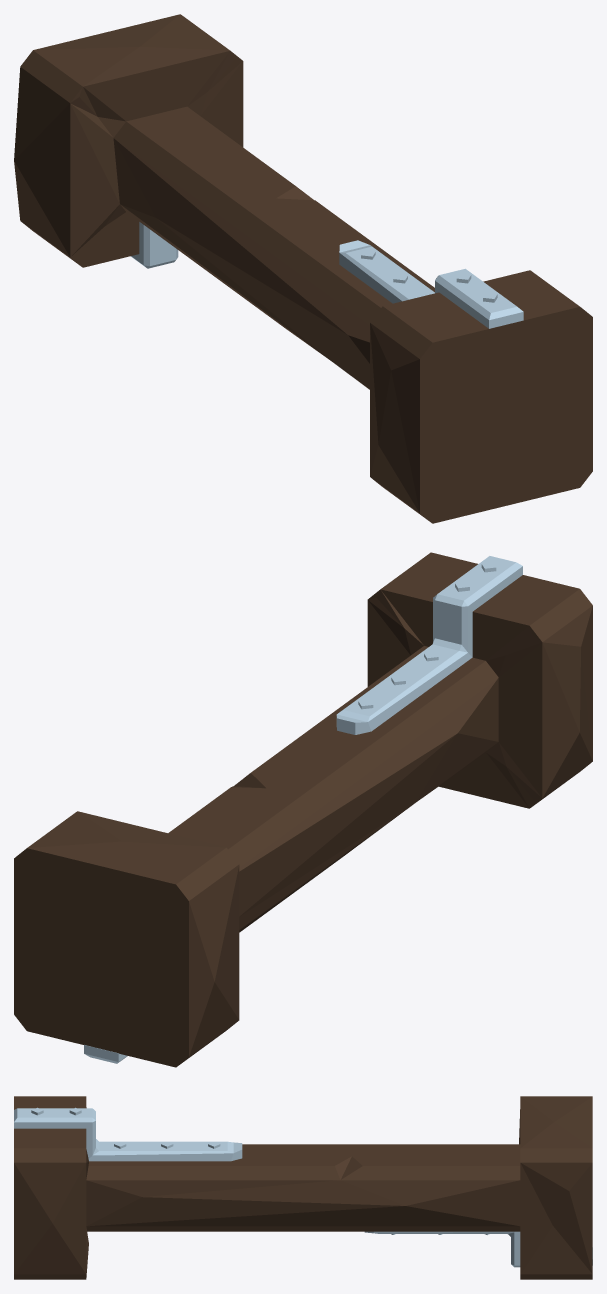
The model's file is Beam_Medium.fbx.
3 renders of one model, top to bottom at view 1: azimuth 30°, elevation 25°; view 2: azimuth 150°, elevation 25°; view 3: azimuth 270°, elevation 25°, orthographic. The views are drawn at different scales.
Parts seen in each view (by area): view 1: Beam_Medium; view 2: Beam_Medium; view 3: Beam_Medium.
Part boxes in pixels (box(x1,y1,x2,y2)): Beam_Medium: box(14, 14, 592, 523); Beam_Medium: box(14, 552, 592, 1067); Beam_Medium: box(14, 1096, 592, 1279).
Size of the model in its own units: 2.29 by 2.38 by 8.
